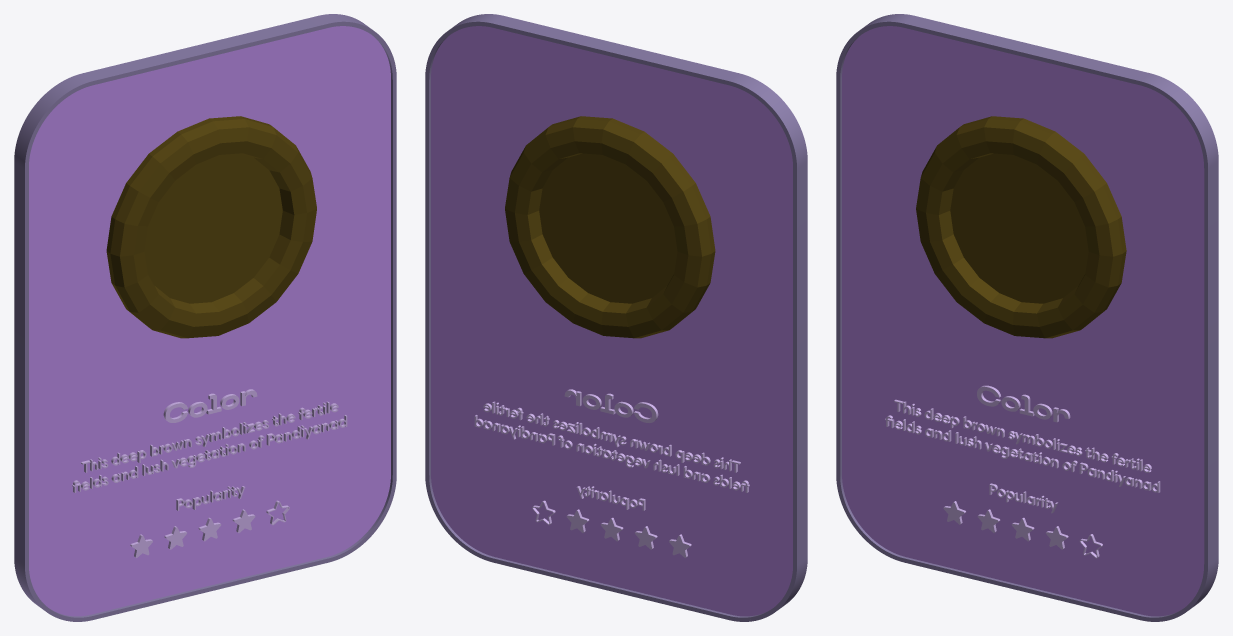
The model's file is pandi color.gltf.
The picture shows the model from 3 angles, left to right: view 1: azimuth 30°, elevation 25°; view 2: azimuth 150°, elevation 25°; view 3: azimuth 330°, elevation 25°; orthographic projection.
Parts seen in each view (by area): view 1: Mesh_2713.001, Coin, Mesh_2369.002, Mesh_2280.002, Mesh_2659.001, Mesh_1402.002; view 2: Mesh_2713.001, Coin, Mesh_2369.002, Mesh_2280.002, Mesh_2659.001, Mesh_1402.002; view 3: Mesh_2713.001, Coin, Mesh_2369.002, Mesh_2280.002, Mesh_2659.001, Mesh_1402.002.
Boxes of the visible parts, left/top/right/bottom form: Mesh_2713.001: left=29, top=26, right=390, bottom=616; Coin: left=106, top=116, right=316, bottom=338; Mesh_2369.002: left=14, top=14, right=396, bottom=621; Mesh_2280.002: left=72, top=401, right=347, bottom=510; Mesh_2659.001: left=130, top=500, right=289, bottom=557; Mesh_1402.002: left=163, top=389, right=257, bottom=422; Mesh_2713.001: left=431, top=26, right=792, bottom=616; Coin: left=505, top=116, right=715, bottom=338; Mesh_2369.002: left=425, top=14, right=807, bottom=621; Mesh_2280.002: left=474, top=401, right=749, bottom=510; Mesh_2659.001: left=532, top=500, right=691, bottom=557; Mesh_1402.002: left=564, top=389, right=658, bottom=422; Mesh_2713.001: left=842, top=26, right=1204, bottom=616; Coin: left=916, top=116, right=1126, bottom=338; Mesh_2369.002: left=836, top=14, right=1218, bottom=621; Mesh_2280.002: left=885, top=399, right=1160, bottom=513; Mesh_2659.001: left=943, top=501, right=1102, bottom=558; Mesh_1402.002: left=977, top=385, right=1070, bottom=422.
Size of the model in its own units: 0.3625 by 0.5019 by 0.05.
39 materials, 36 textured.
